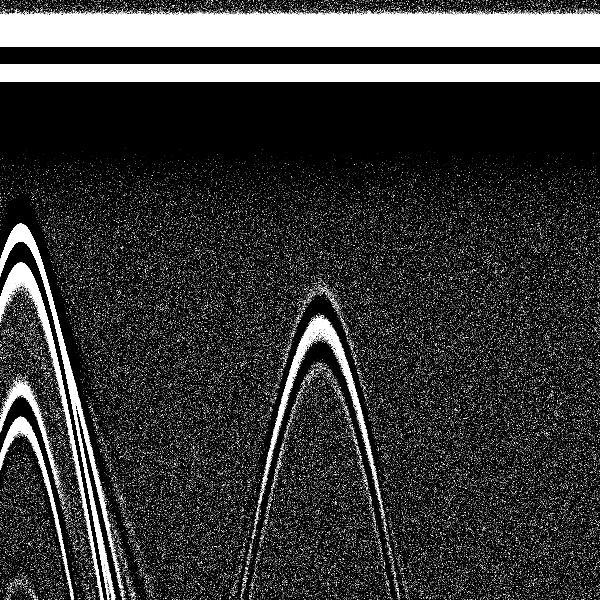pipe: (274, 6, 369, 391), (1, 1, 66, 305)
